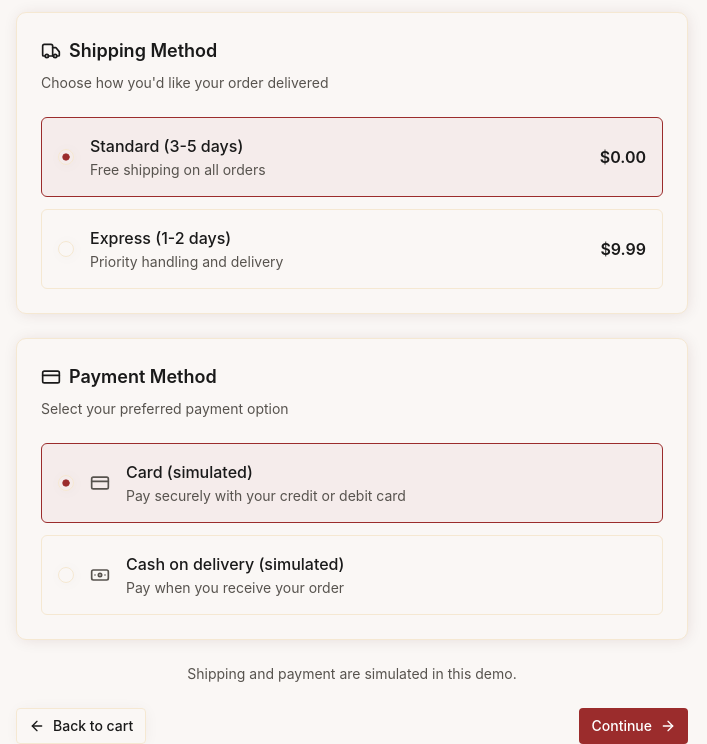
Test: CheckoutForm › step 2 validation › shows 'Email is required' when email is empty on submit
(page scrolled)
Click the button with test id "checkout-continue": (634, 726) [580,708,688,743]
(page scrolled)
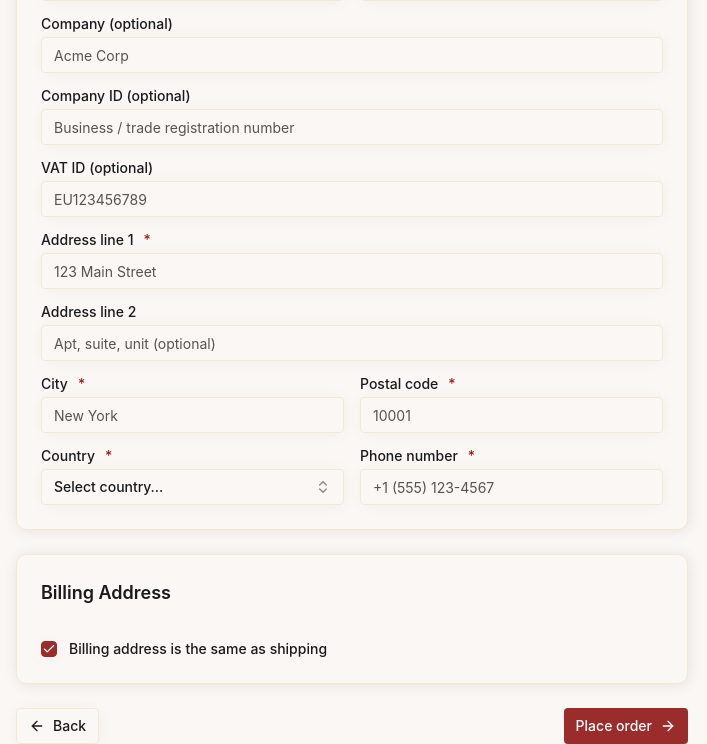
Click the button with test id "checkout-submit": (626, 726) [564,708,688,743]
(page scrolled)
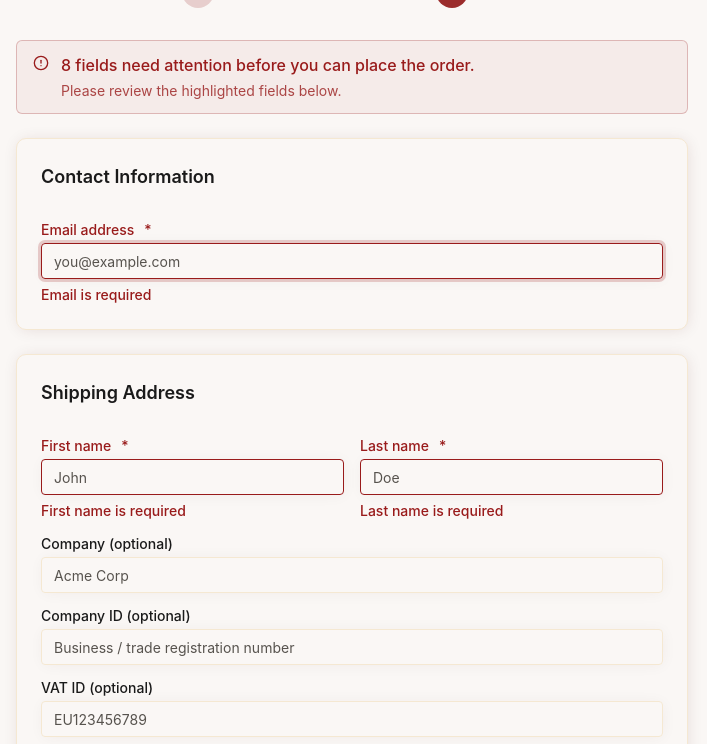
Check: the text "Email is required" is shown, box [41,286,151,303]
